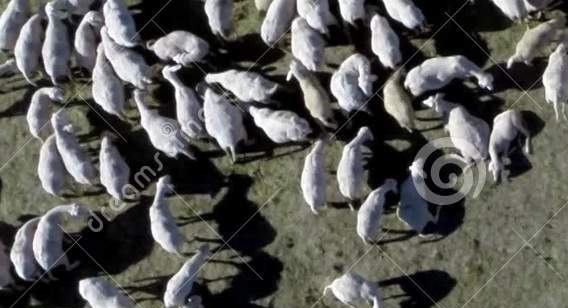sheep: (423, 94, 500, 183), (50, 112, 110, 206), (138, 246, 224, 308), (477, 103, 540, 186), (325, 123, 389, 203), (317, 49, 390, 118), (155, 64, 209, 157), (91, 133, 150, 216), (85, 23, 156, 90), (195, 84, 250, 165), (144, 175, 192, 259), (38, 1, 82, 91), (15, 1, 55, 90), (199, 64, 280, 106), (378, 68, 420, 149), (126, 86, 175, 155), (401, 57, 492, 94), (56, 3, 107, 69), (505, 10, 568, 63), (352, 176, 393, 251), (143, 27, 218, 68), (244, 97, 309, 140), (32, 129, 74, 194), (30, 204, 75, 263), (323, 268, 383, 308), (301, 139, 329, 217), (22, 90, 70, 135), (102, 1, 149, 44), (370, 13, 405, 69), (536, 47, 568, 105), (74, 263, 111, 308), (333, 1, 385, 33), (281, 21, 314, 66), (264, 1, 290, 52), (207, 1, 238, 36)
